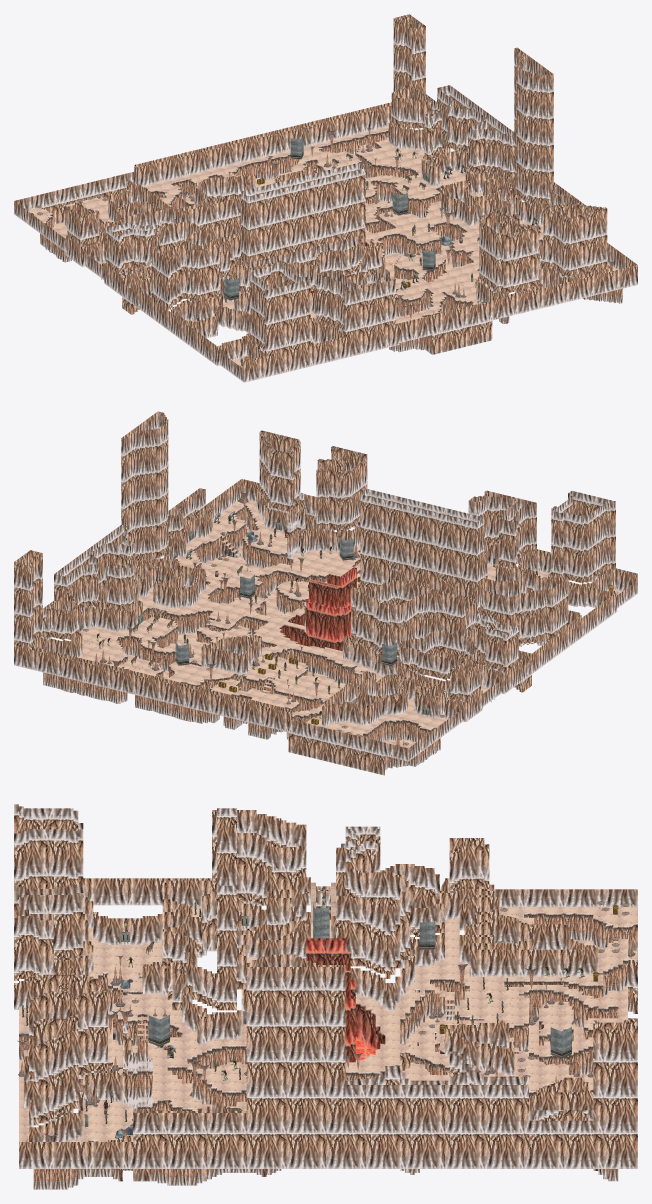
Rendered from map.gltf.
3 views of the same model, one above another, from view 1: azimuth 30°, elevation 25°; view 2: azimuth 150°, elevation 25°; view 3: azimuth 270°, elevation 25° (orthographic). The views are drawn at different scales.
Size of the model in its own units: 126 by 53 by 126.
32 materials, 32 textured.
